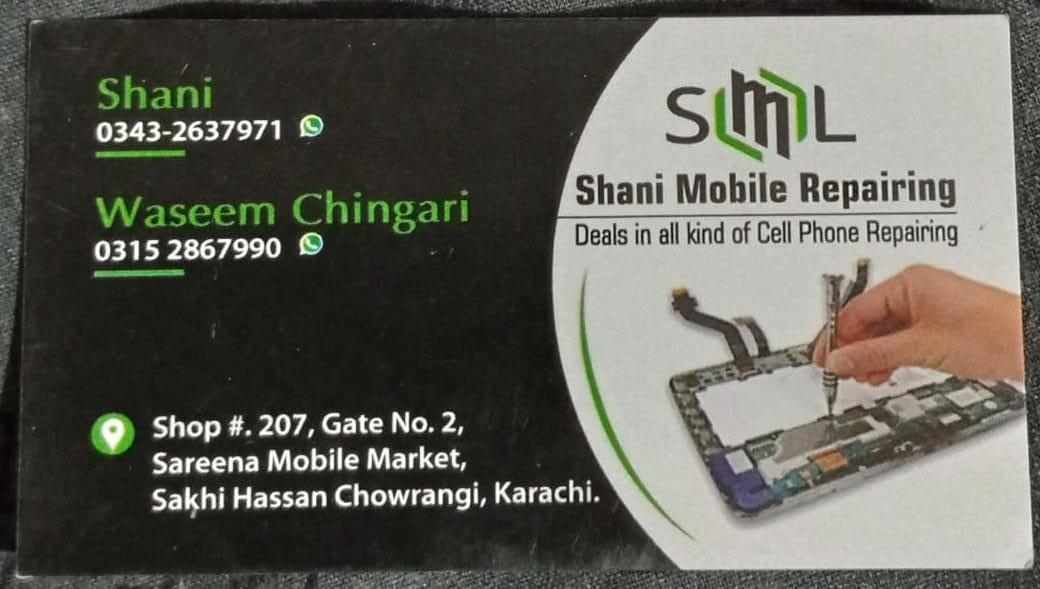alphabetical: (89, 185, 477, 234), (571, 165, 962, 210), (571, 216, 968, 250), (89, 72, 227, 111)
numerical: (90, 112, 291, 149), (89, 235, 285, 264)
